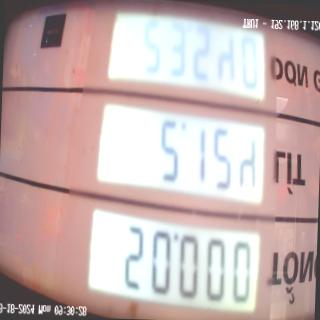screen: (77, 0, 275, 320)
